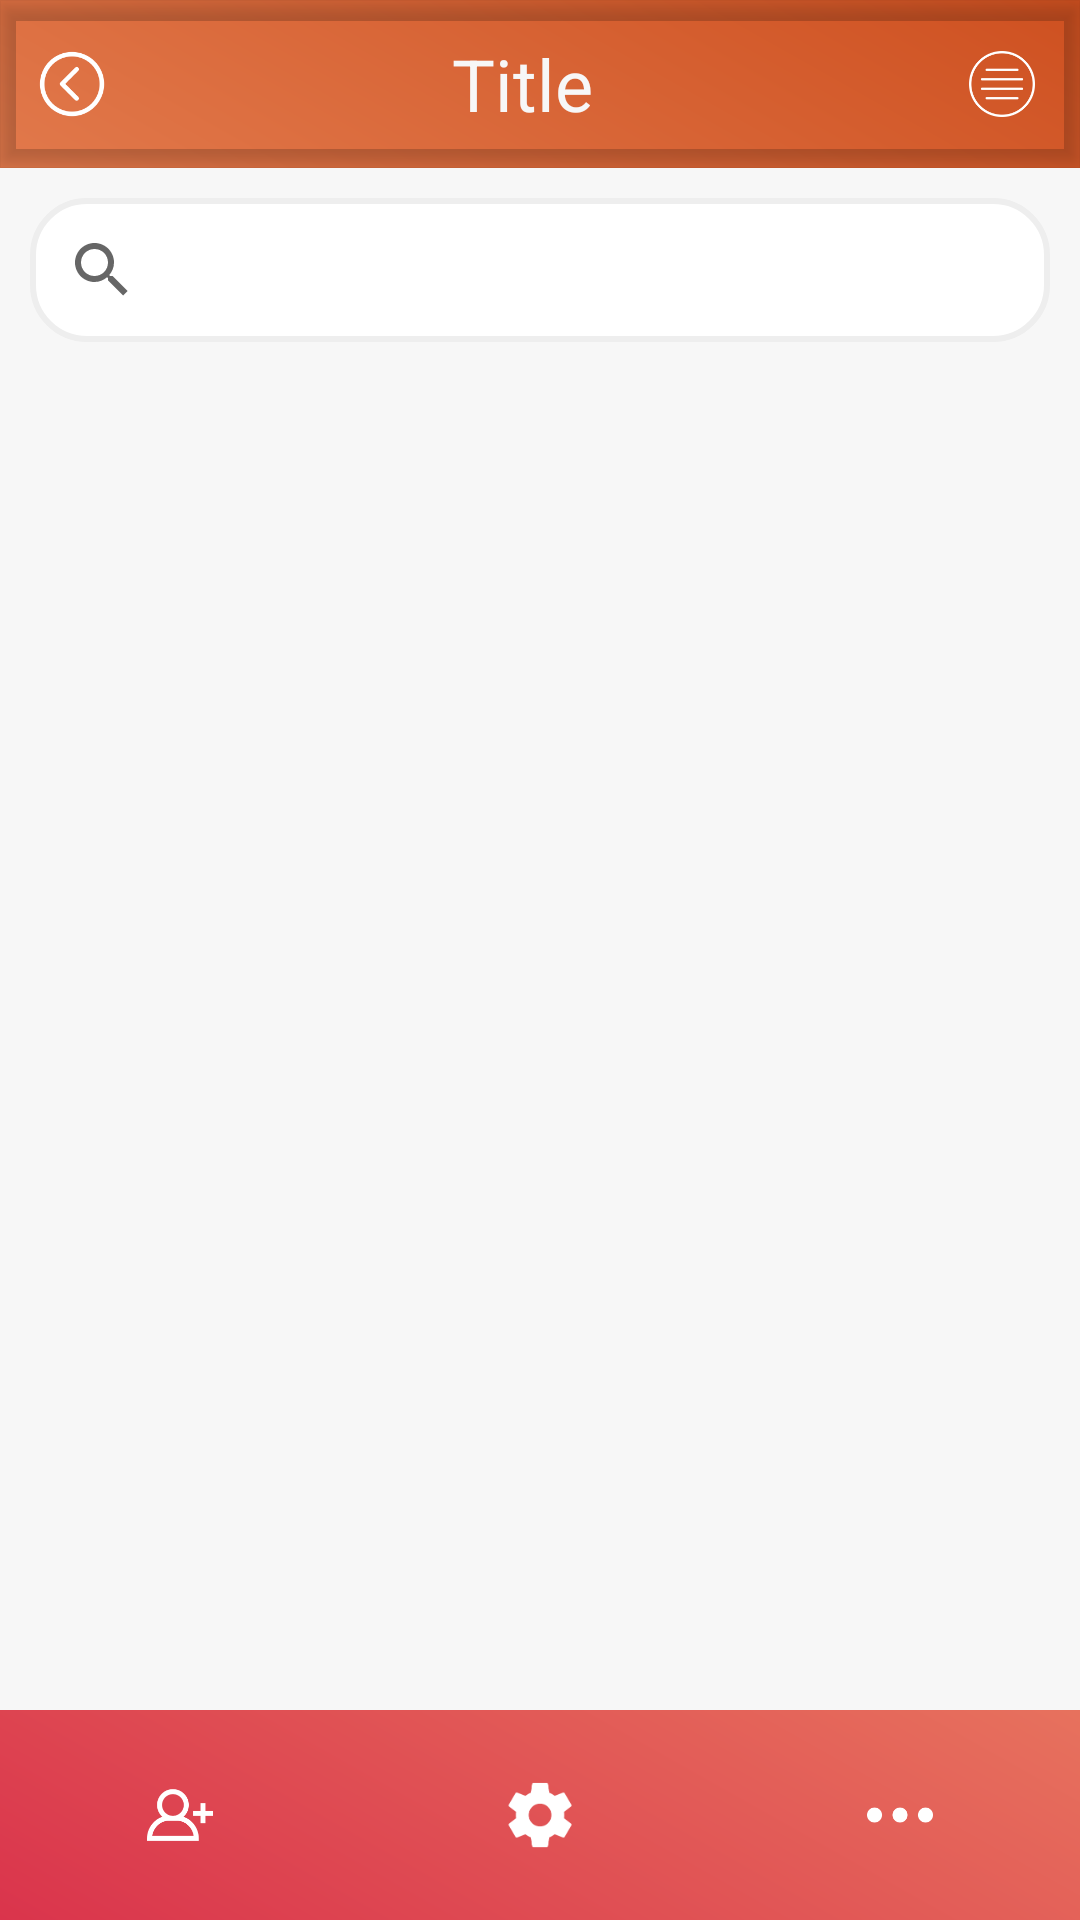

Locate icon controls on the screen. Image size 1080*1920, boxes as (x1, y1, x2, y2).
add user: (147, 1789, 213, 1841)
dots: (867, 1807, 933, 1823)
left arrow: (40, 52, 105, 117)
settings: (508, 1783, 572, 1848)
